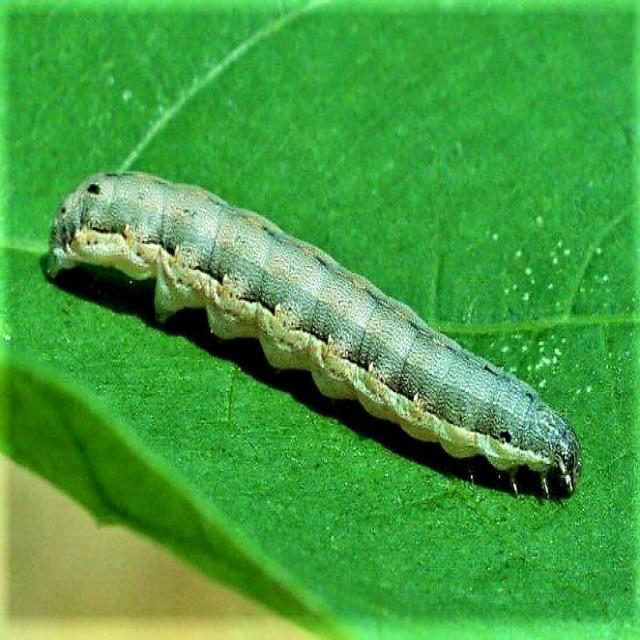Armyworm: (31, 122, 587, 546)
